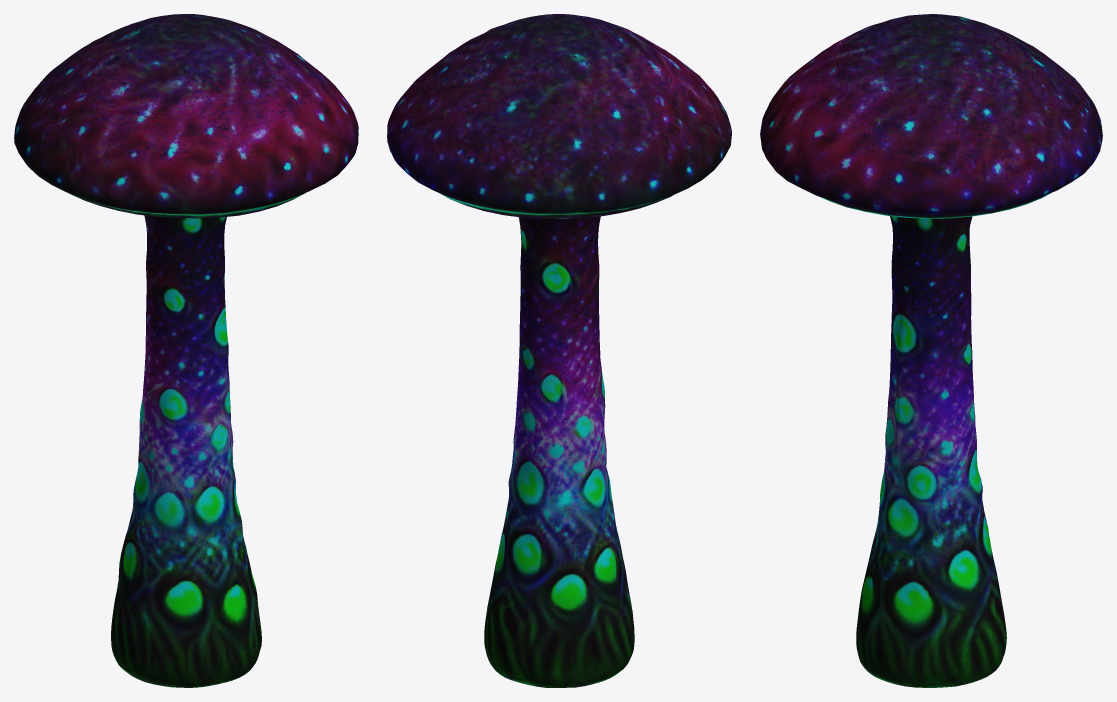
Rendered from a27c81a61f30_Glowing_Bioluminesc.fbx.
3 renders of one model, left to right at view 1: azimuth 30°, elevation 25°; view 2: azimuth 150°, elevation 25°; view 3: azimuth 270°, elevation 25°, orthographic.
Parts seen in each view (by area): view 1: mesh; view 2: mesh; view 3: mesh.
Boxes of the visible parts, x1,y1,x2,y2 form: mesh: (14, 14, 358, 687); mesh: (387, 14, 731, 687); mesh: (760, 14, 1102, 687).
Bounding box in the file's own units: 49.01 × 99.98 × 49.
